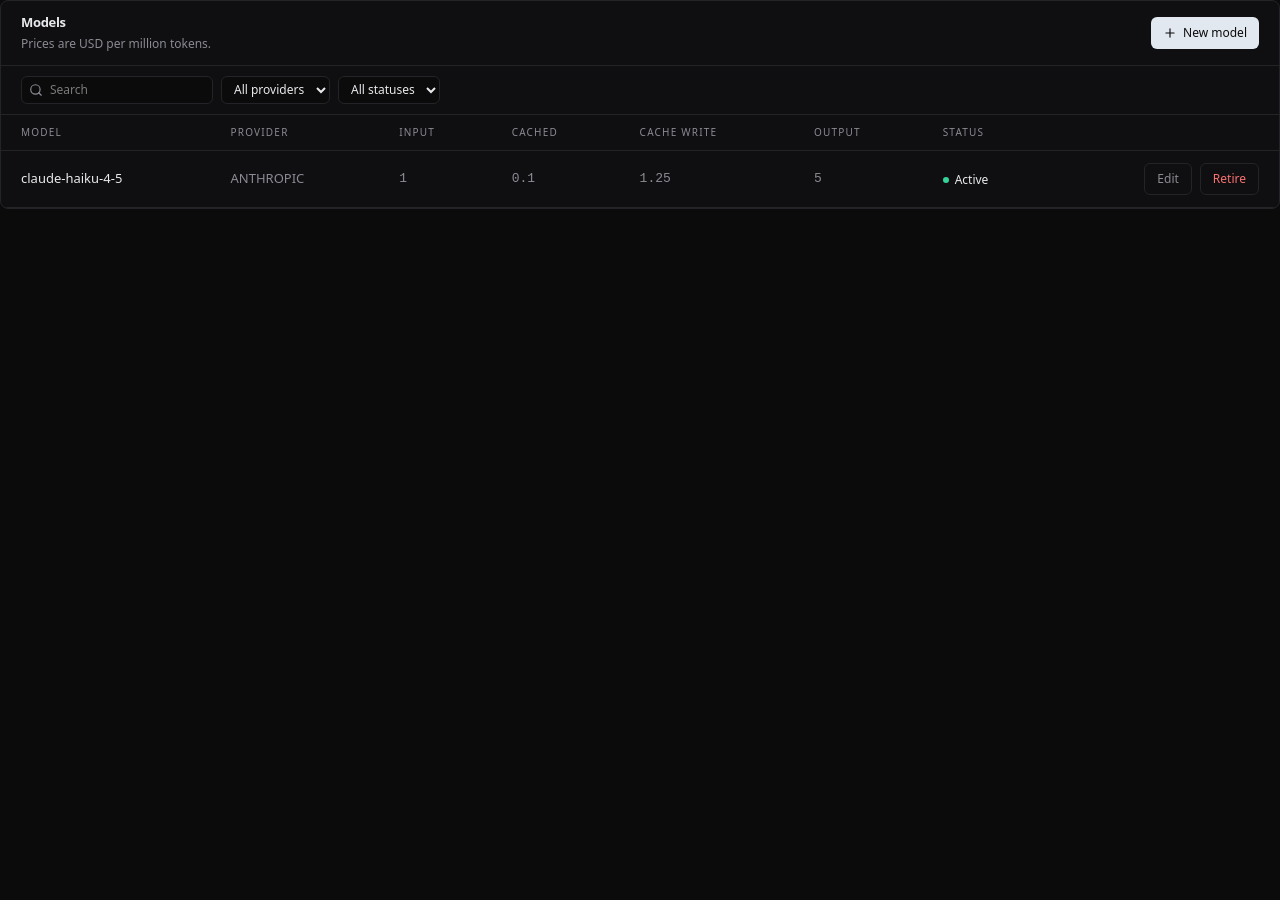
<ModelsPanel /> › closes the edit form on cancel
Click the button "Edit".
click(1168, 178)  # box [1144,162,1192,194]
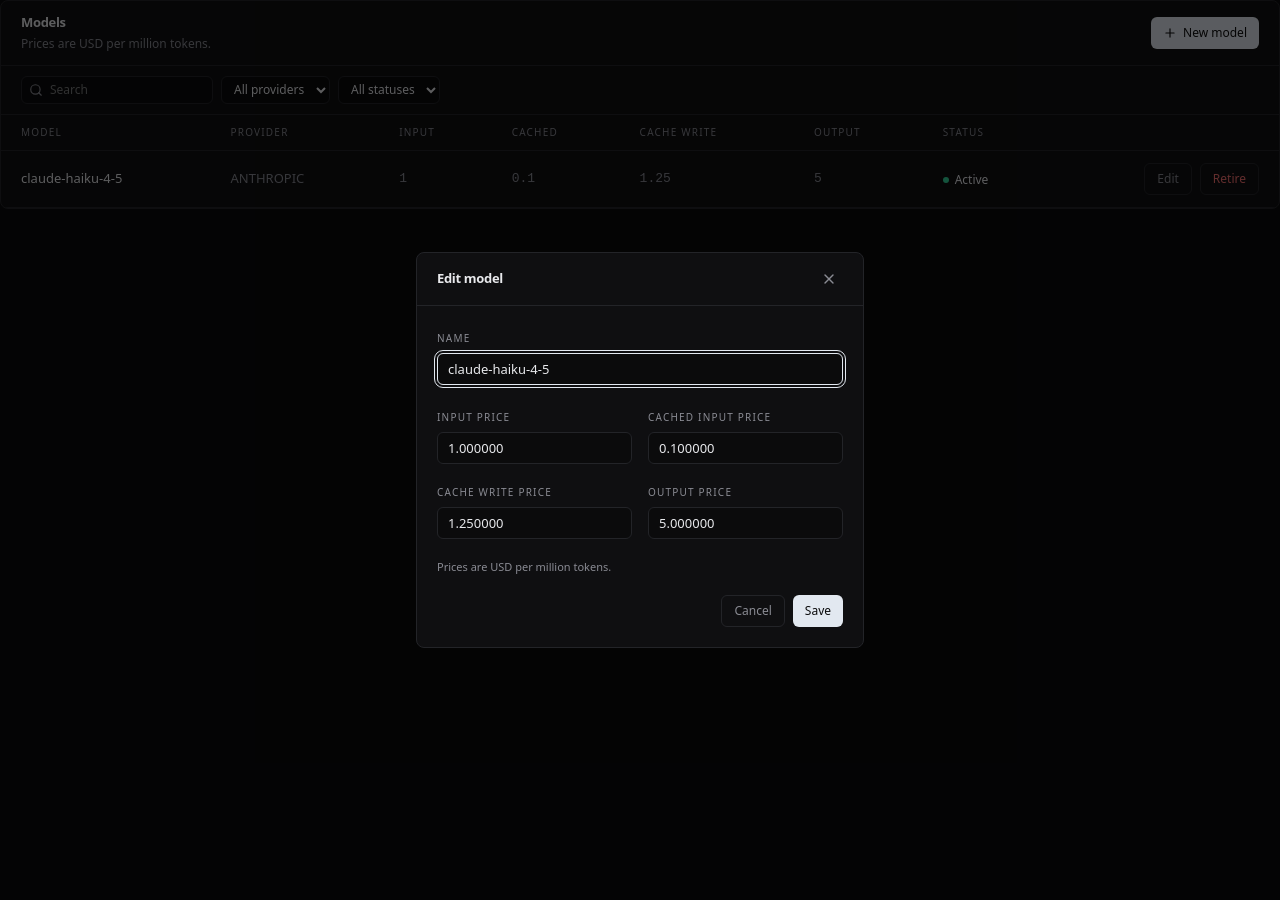
Click the button "Cancel".
click(753, 611)  # box [722,595,785,627]
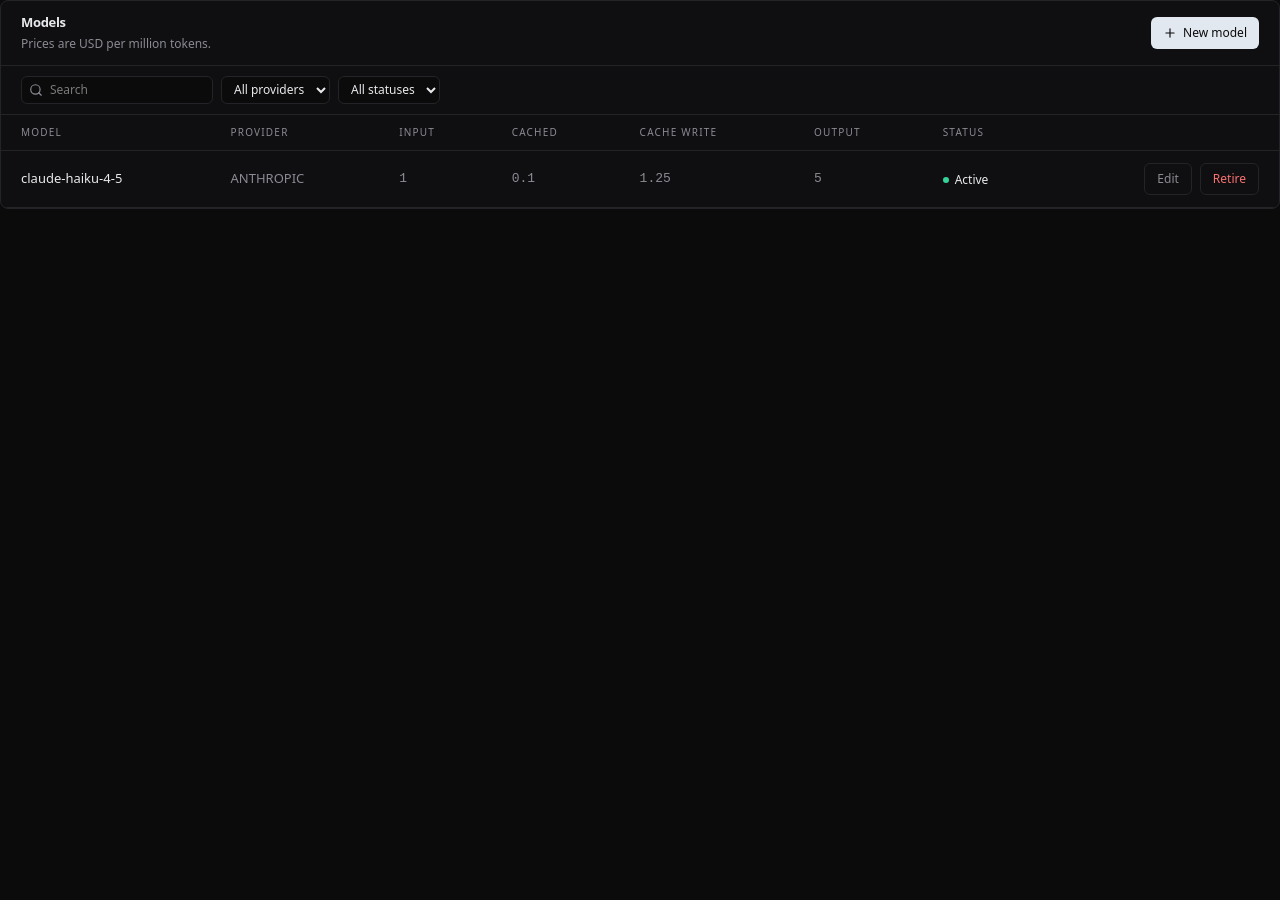
Now the dialog is gone
